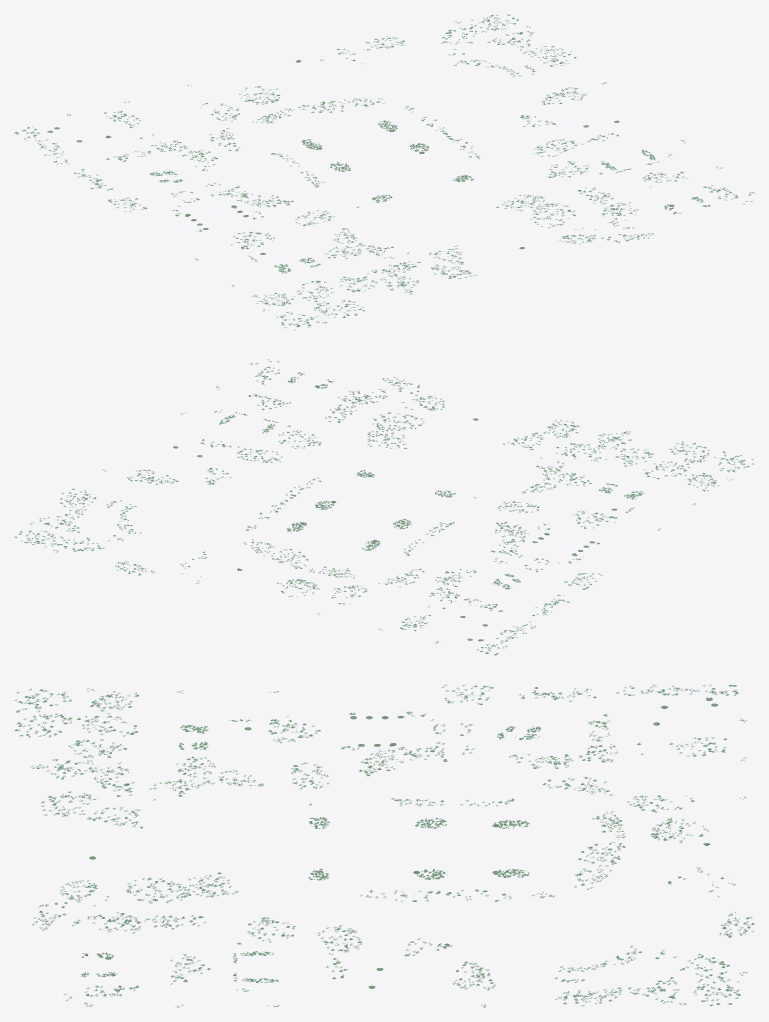
File: sunwen-landscape-low.glb
3 renders of one model, top to bottom at view 1: azimuth 30°, elevation 25°; view 2: azimuth 150°, elevation 25°; view 3: azimuth 270°, elevation 25°, orthographic. The views are drawn at different scales.
Visible parts, largest first — view 1: Sunwen_Tended_Beds_Low; view 2: Sunwen_Tended_Beds_Low; view 3: Sunwen_Tended_Beds_Low.
Part boxes in pixels (x1=…): Sunwen_Tended_Beds_Low: x1=14, y1=14, x2=754, y2=330; Sunwen_Tended_Beds_Low: x1=14, y1=359, x2=754, y2=655; Sunwen_Tended_Beds_Low: x1=14, y1=684, x2=754, y2=1007.
Size of the model in its own units: 291 by 8.92 by 281.
